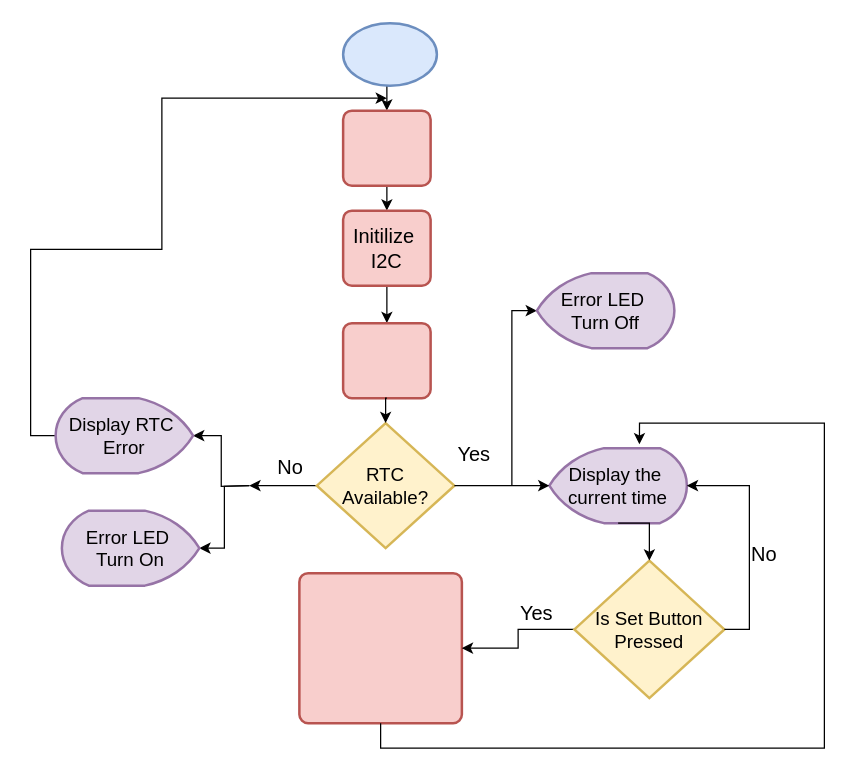
This 856x780 diagram has some shape labels left out. Each missing label, with the centre of its shape:
Enter Time Serting mode (Set time, increment time and confirm): pixel 380 647
Initilize LCD: pixel 386 147
Read RTC: pixel 386 360
start: pixel 389 53
